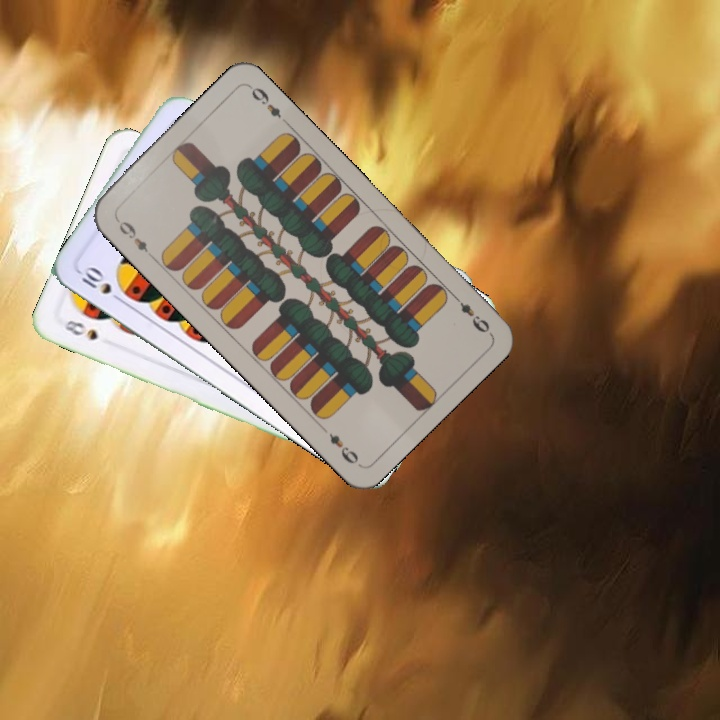E9: (111, 214, 157, 261), (448, 290, 493, 335)
S10: (75, 262, 127, 306)
S8: (59, 316, 100, 343)
